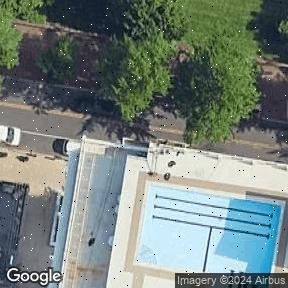vegetation: (171, 36, 262, 144), (0, 0, 45, 68), (34, 33, 89, 88), (278, 19, 288, 36)
